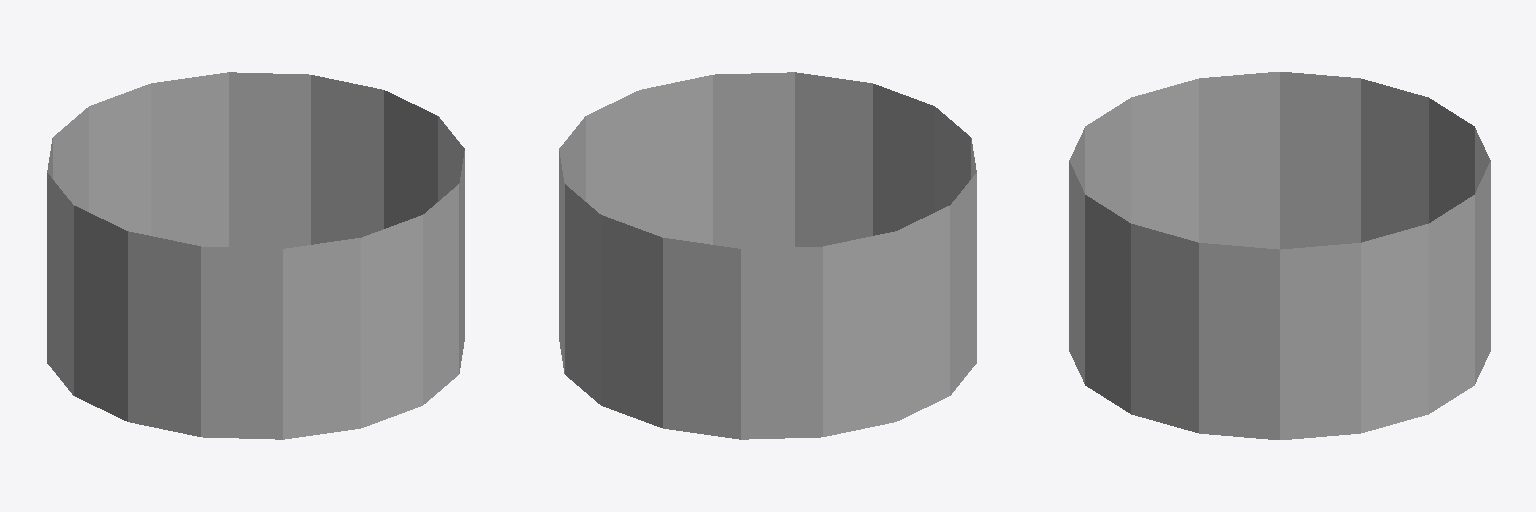
File: arena_walls.obj
3 renders of one model, left to right at view 1: azimuth 30°, elevation 25°; view 2: azimuth 150°, elevation 25°; view 3: azimuth 270°, elevation 25°, orthographic.
Visible parts, largest first — view 1: arena_walls; view 2: arena_walls; view 3: arena_walls.
Part boxes in pixels (x1,y1,x2,y2): arena_walls: (47,72,464,439); arena_walls: (559,72,976,439); arena_walls: (1069,72,1490,439).
Size of the model in its own units: 2 by 1 by 2.